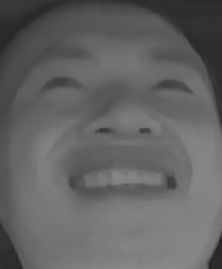eye: (146, 72, 199, 103), (39, 70, 85, 97)
mouth: (59, 154, 185, 206)
